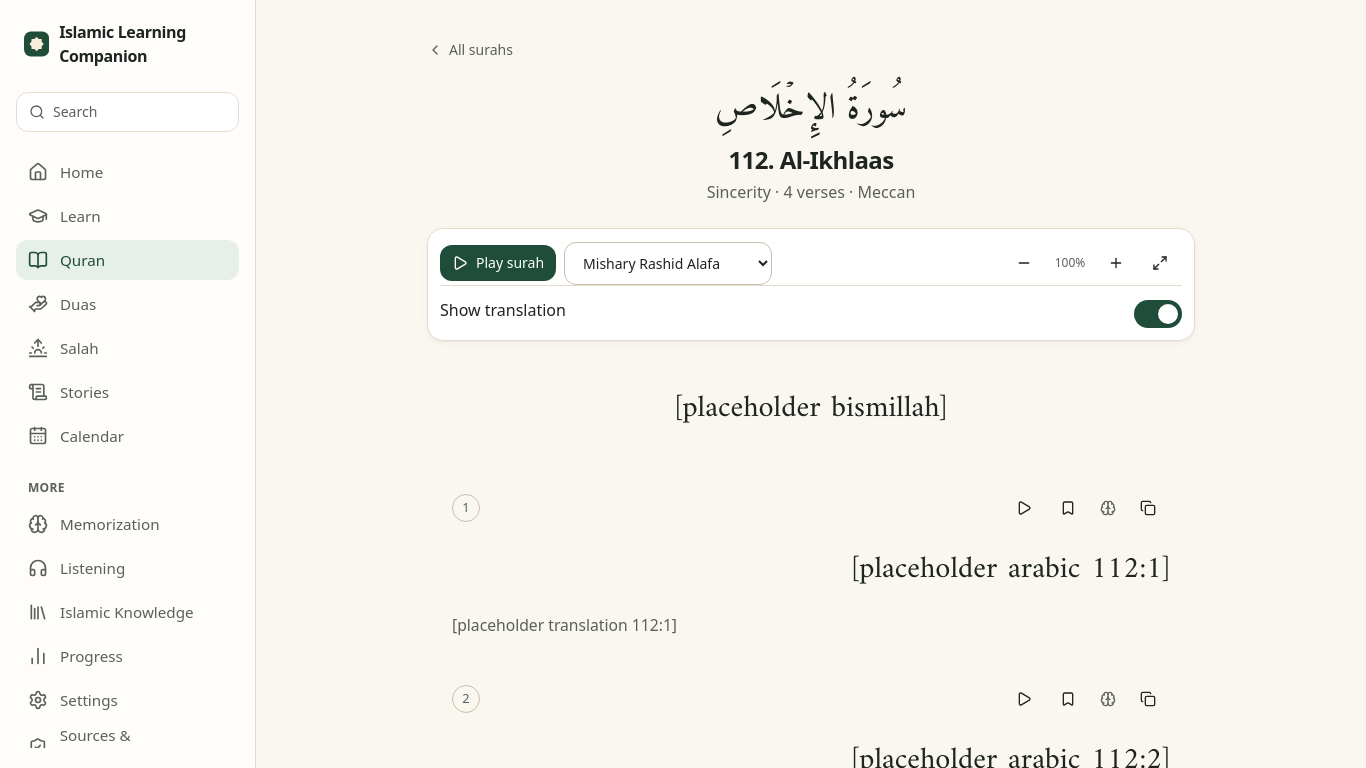
Test case: Surah reader › plays a verse from the provider’s audio and highlights it
Click the button named "Play verse 2" at (1024, 699), box [1002,677,1046,721]
(page scrolled)
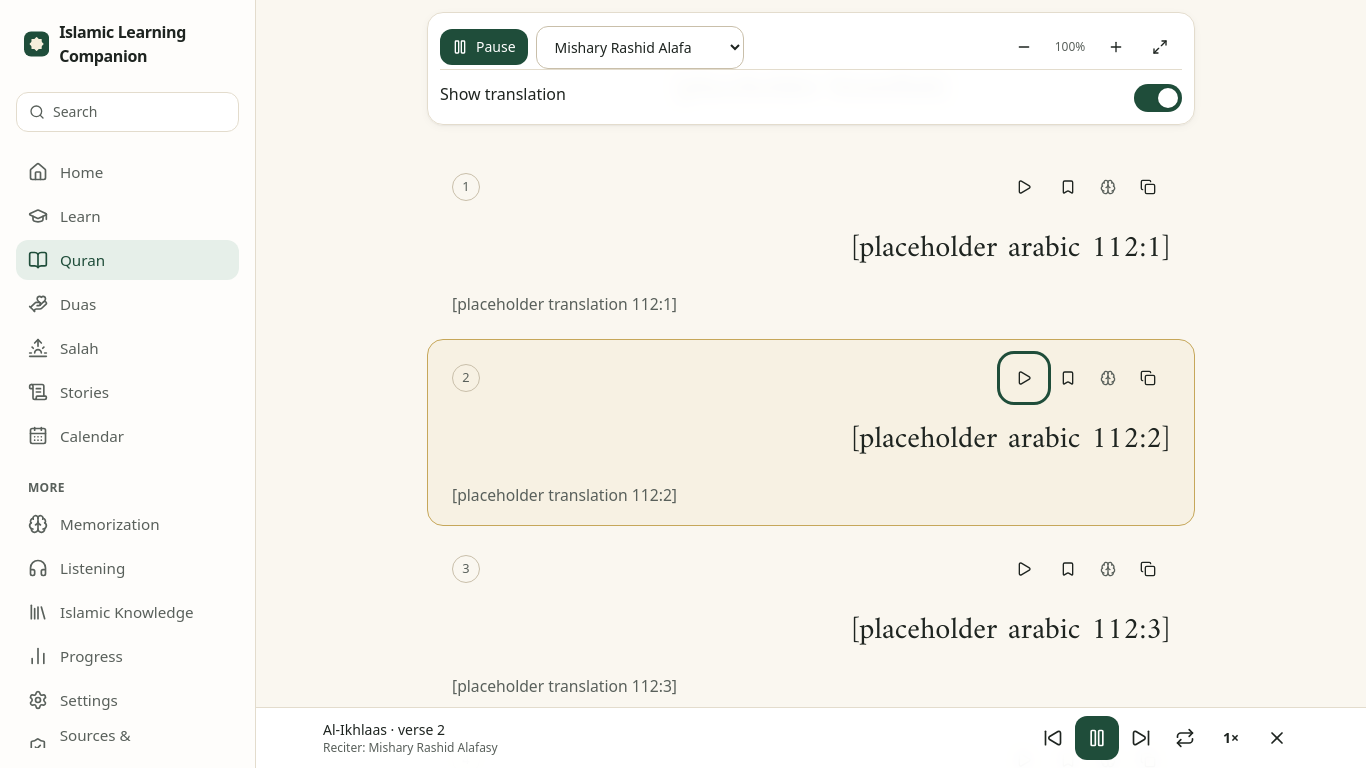
Expected: the link "Al-Ikhlaas · verse 2" is shown, [323,720,445,739]
Expected: the text "Reciter: Mishary Rashid Alafasy" is shown, [323,739,498,756]
